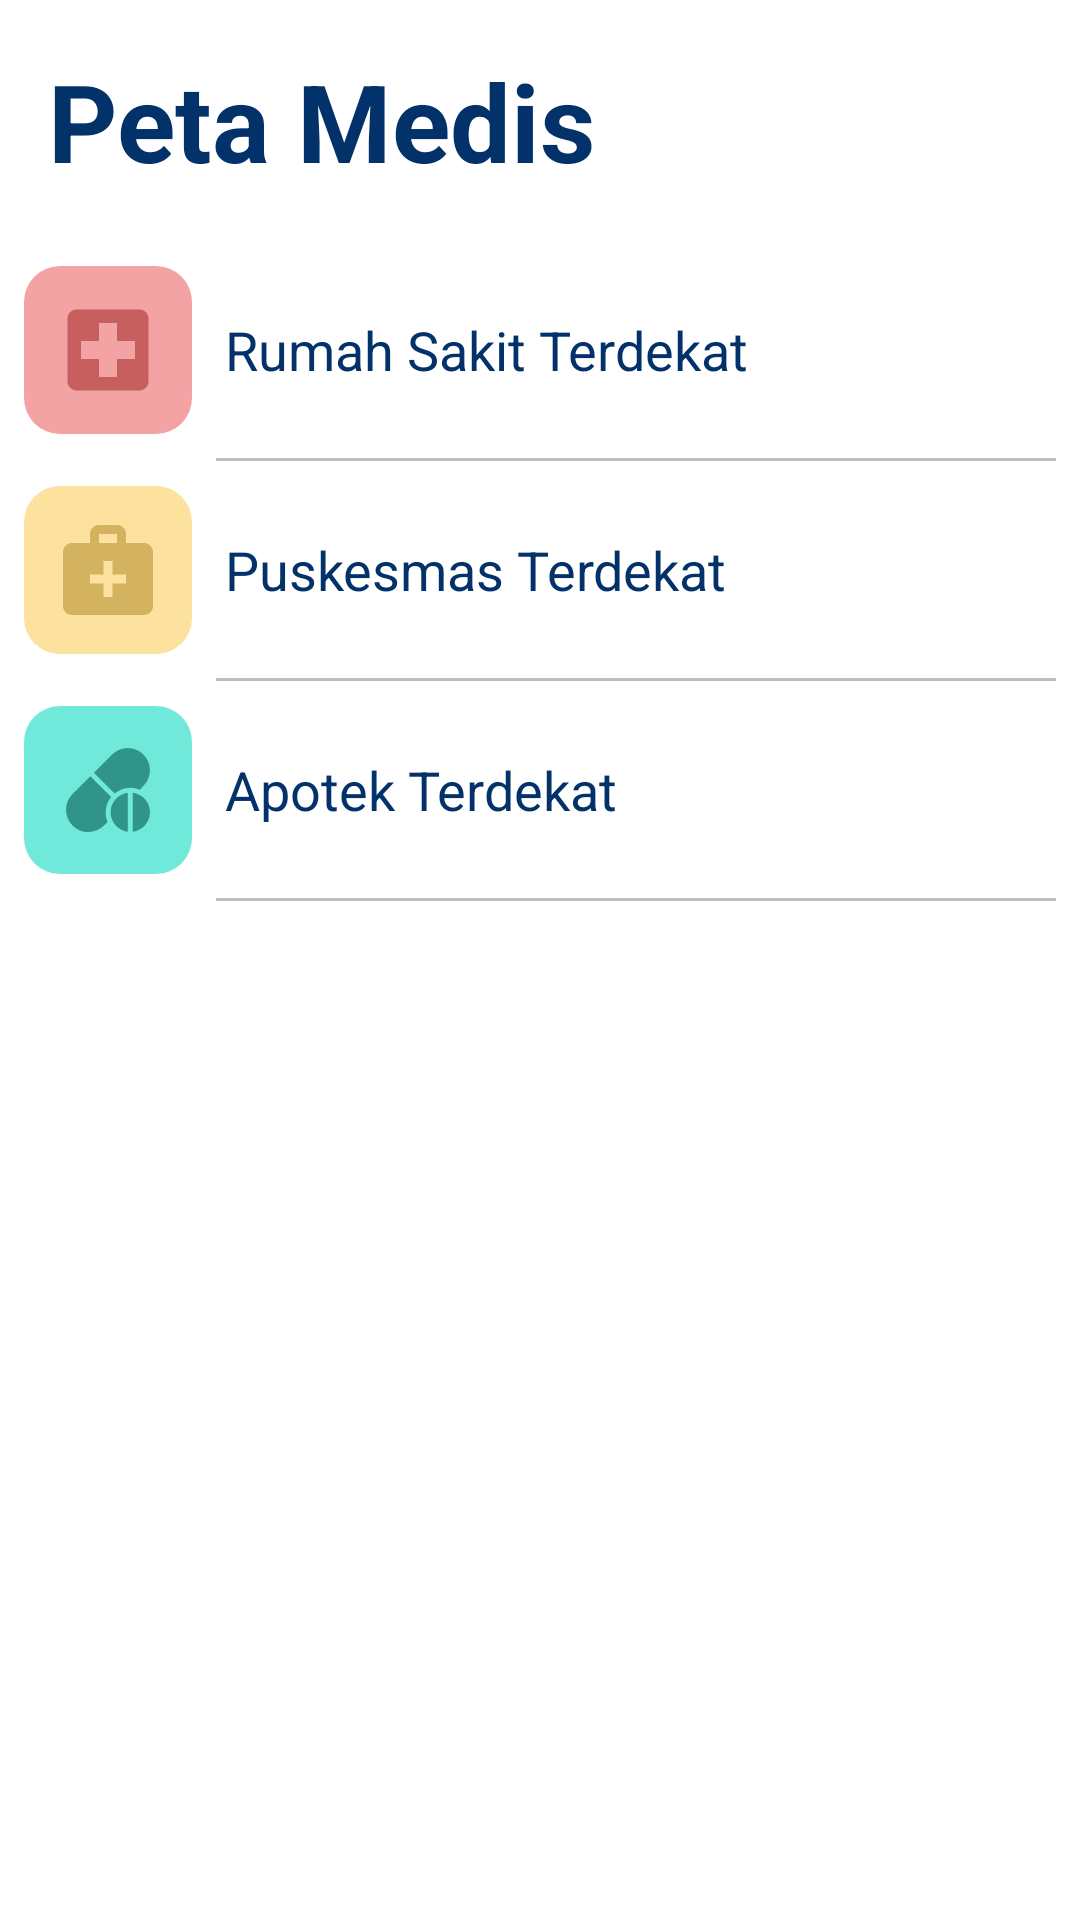

Icons on this 1080×1920 Android screen, each with its box as [x1=x1, y1=y1, x2=x2, y2=y2]:
drugs: [x1=24, y1=706, x2=192, y2=874]
local hospital: [x1=24, y1=266, x2=192, y2=434]
medical services: [x1=24, y1=486, x2=192, y2=654]
